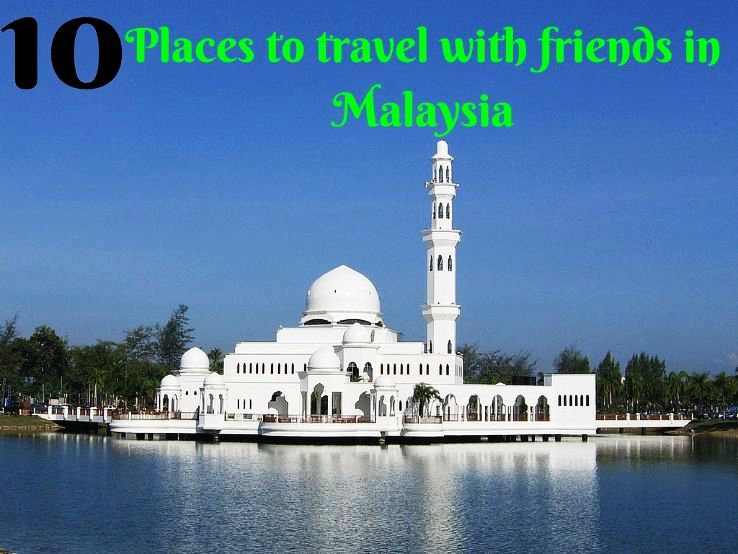Mosque: (132, 131, 591, 451)
